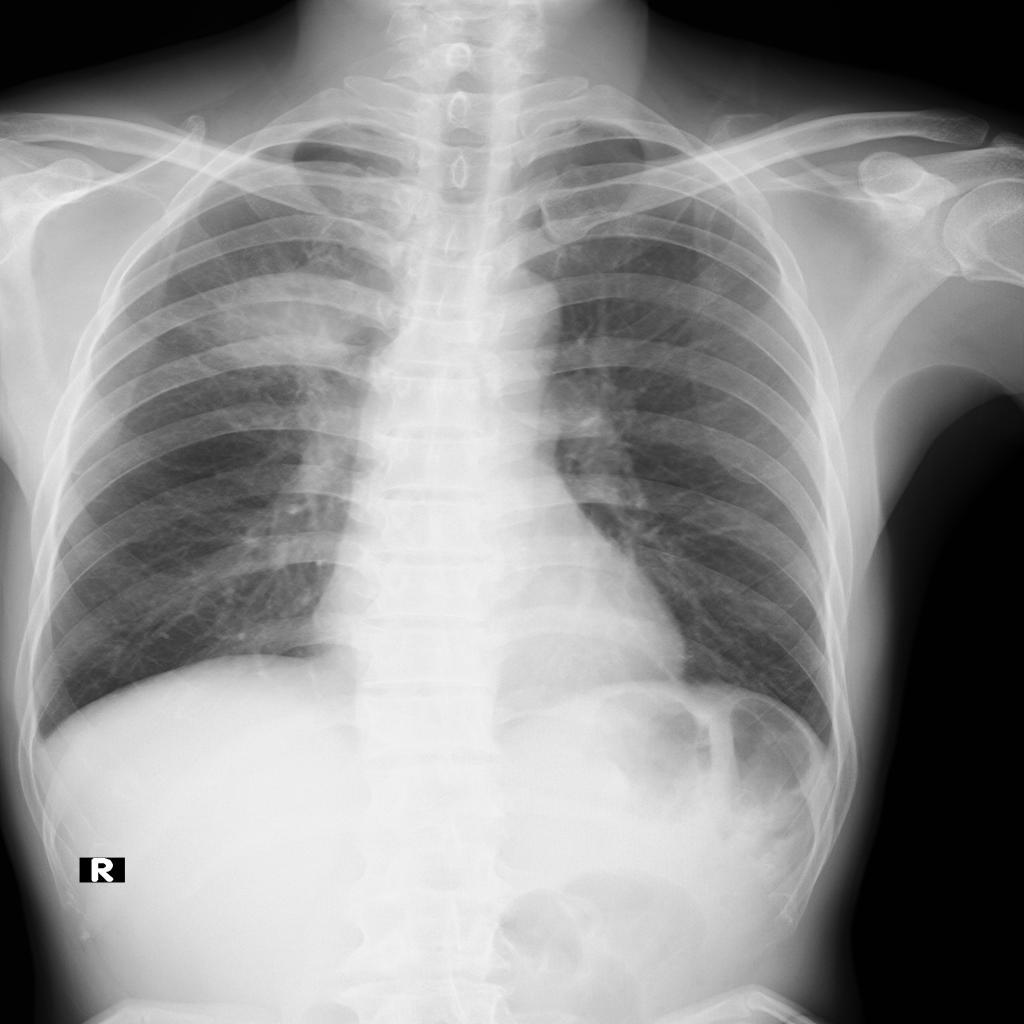Nodule: (216, 260, 366, 370)
